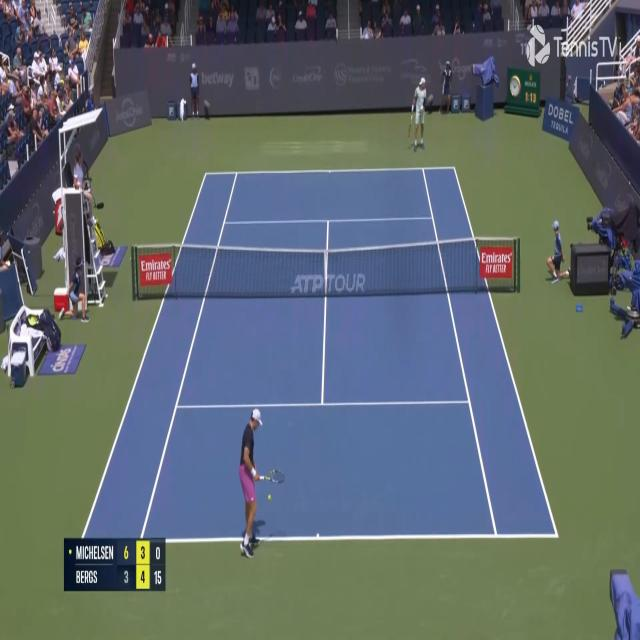tennis-player: (235, 404, 286, 561), (409, 75, 431, 153)
